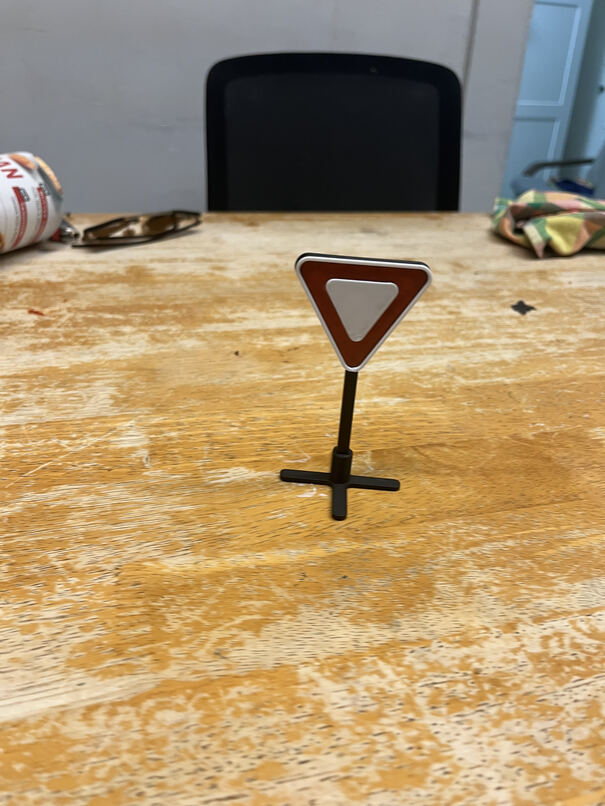sign_yield: (296, 254, 432, 378)
